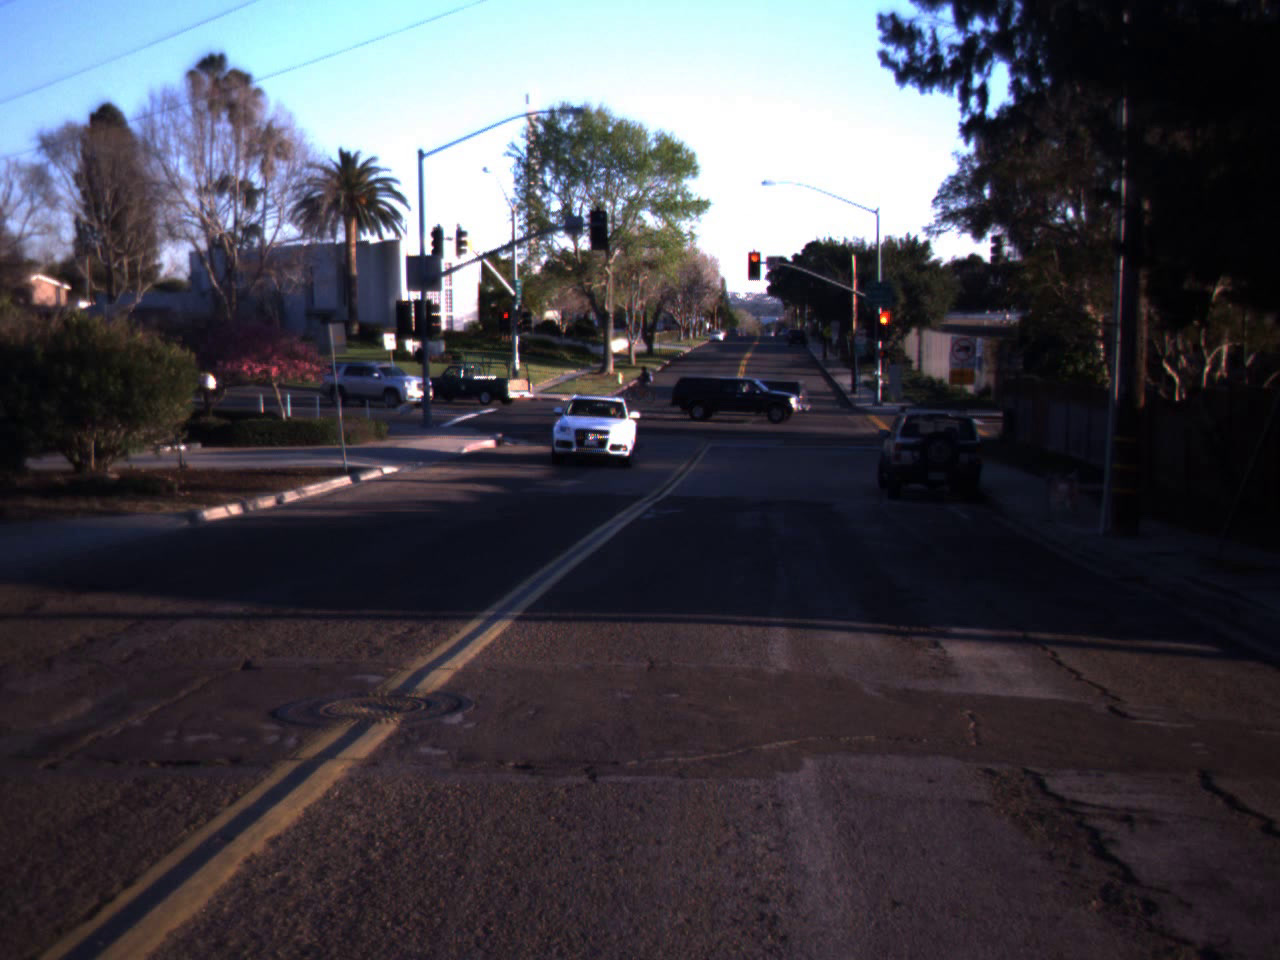stop: (872, 306, 896, 355), (746, 252, 764, 279), (500, 312, 512, 330)
